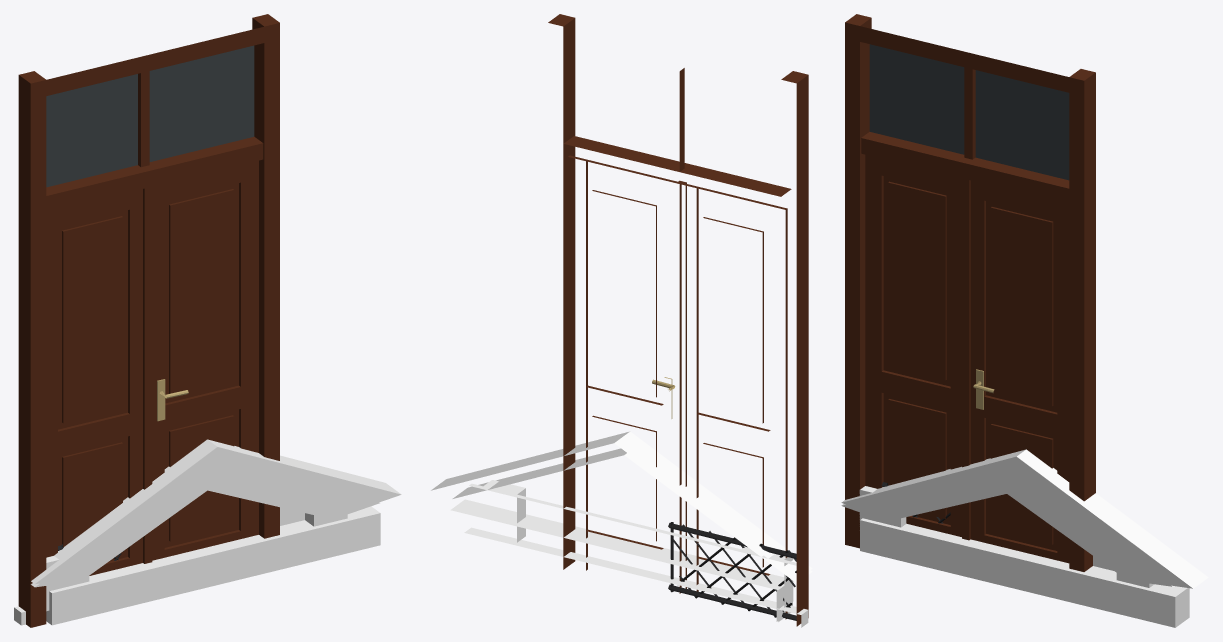
Rendered from msk2-blue-fittings.glb.
3 renders of one model, left to right at view 1: azimuth 30°, elevation 25°; view 2: azimuth 150°, elevation 25°; view 3: azimuth 330°, elevation 25°, orthographic. The views are drawn at different scales.
Visible parts, largest first — view 1: door, pediment-g, pediment-u, entab-g; view 2: door, pediment-g, entab-g, pediment-u, grille-b; view 3: door, pediment-g, pediment-u, entab-g.
Boxes of the visible parts, left/top/right/bottom form: door: left=18, top=14, right=279, bottom=627; pediment-g: left=31, top=439, right=401, bottom=625; pediment-u: left=31, top=459, right=379, bottom=624; entab-g: left=14, top=508, right=347, bottom=625; door: left=548, top=14, right=808, bottom=626; pediment-g: left=431, top=431, right=812, bottom=621; entab-g: left=464, top=480, right=808, bottom=627; pediment-u: left=452, top=448, right=812, bottom=621; grille-b: left=668, top=522, right=796, bottom=620; door: left=845, top=14, right=1095, bottom=571; pediment-g: left=841, top=449, right=1208, bottom=627; pediment-u: left=841, top=463, right=1173, bottom=608; entab-g: left=859, top=486, right=1153, bottom=587.
Size of the model in its own units: 2.14 by 3 by 0.16.
